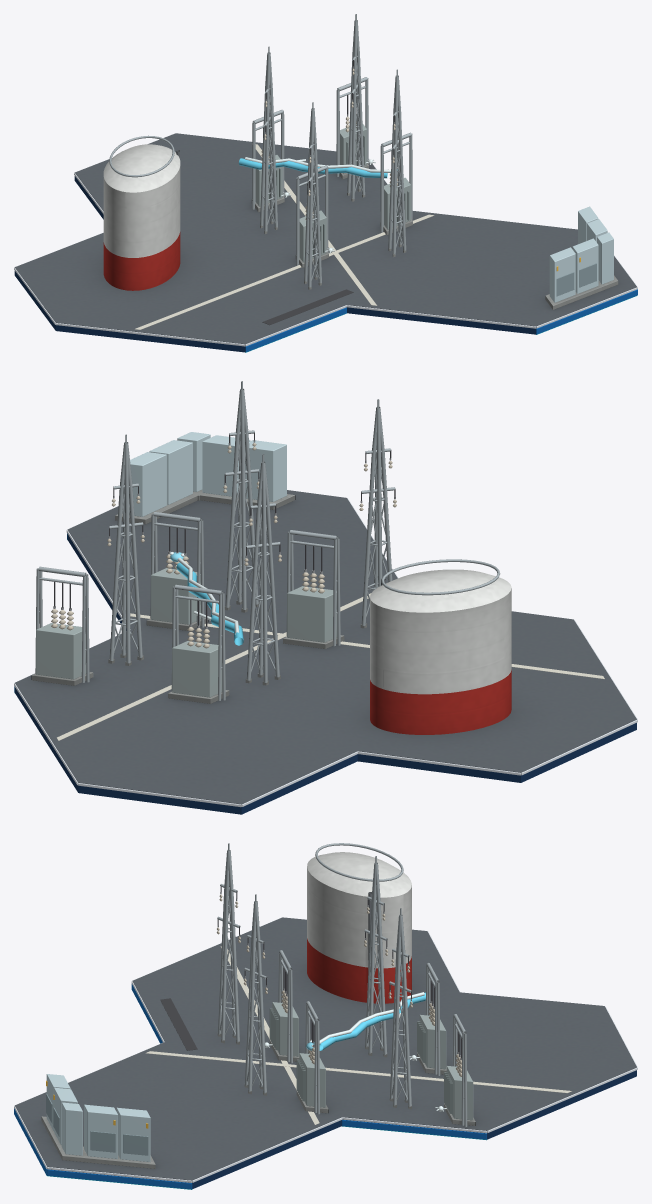
The model's file is field_cm22_01.glb.
3 views of the same model, one above another, from view 1: azimuth 30°, elevation 25°; view 2: azimuth 150°, elevation 25°; view 3: azimuth 270°, elevation 25° (orthographic). The views are drawn at different scales.
Parts seen in each view (by area): view 1: field_cm22_01-refined; view 2: field_cm22_01-refined; view 3: field_cm22_01-refined.
Boxes of the visible parts, bbox=[...] form: field_cm22_01-refined: bbox=[14, 14, 637, 352]; field_cm22_01-refined: bbox=[14, 381, 637, 814]; field_cm22_01-refined: bbox=[14, 843, 637, 1189].
Size of the model in its own units: 14.93 by 5.43 by 14.93.
1 material, 1 textured.
